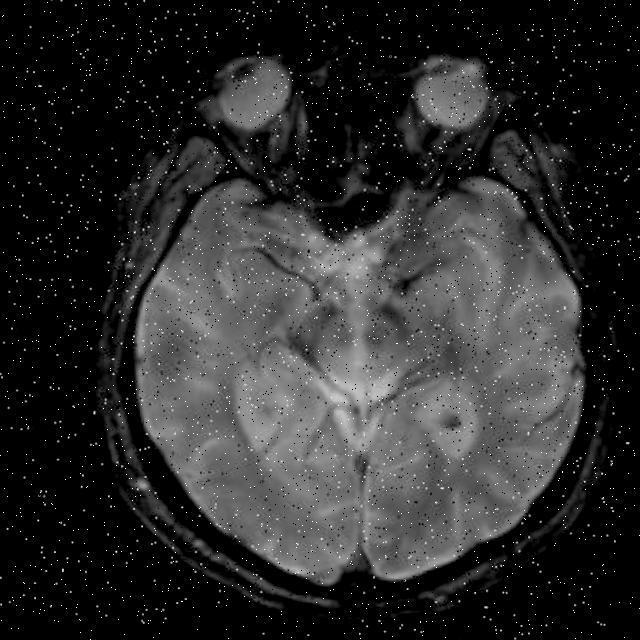EMCI: (219, 289, 332, 502)
LMCI: (206, 217, 362, 394), (371, 243, 482, 337), (216, 226, 309, 320)
